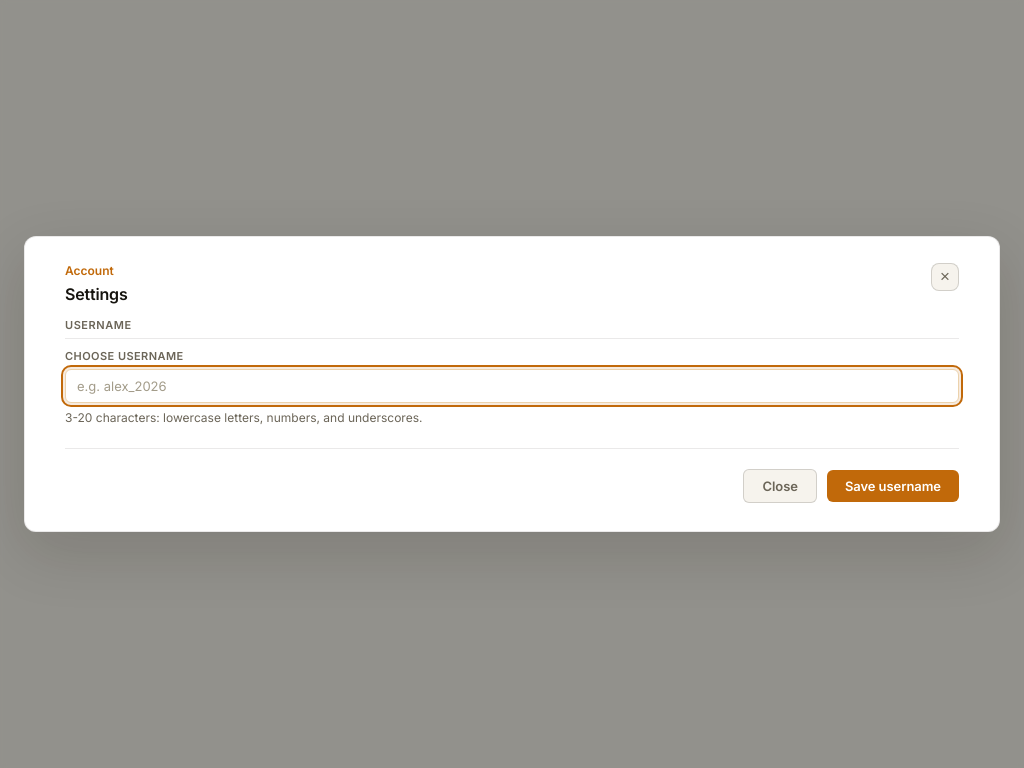
Test: SettingsModal › validates username format before saving
Step 1. Type "ab" into the field labelled "Choose username" → point(512, 386), box [65,369,959,403]
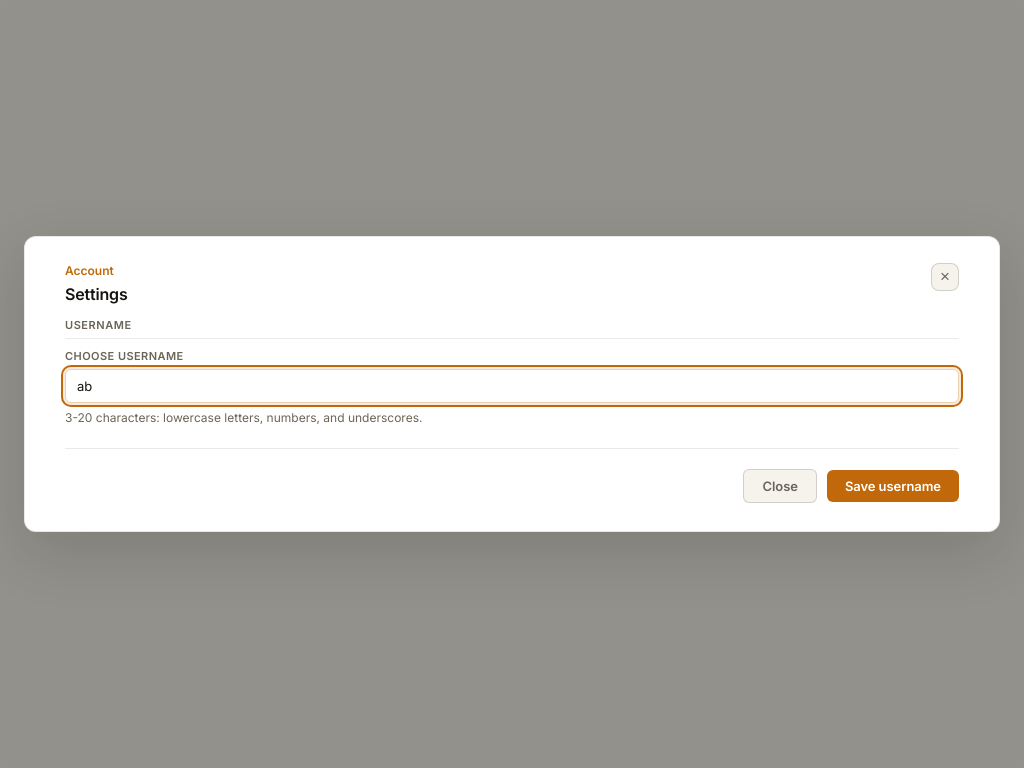
Step 2. Click the button "Save username" → point(893, 486), box [827,470,959,502]
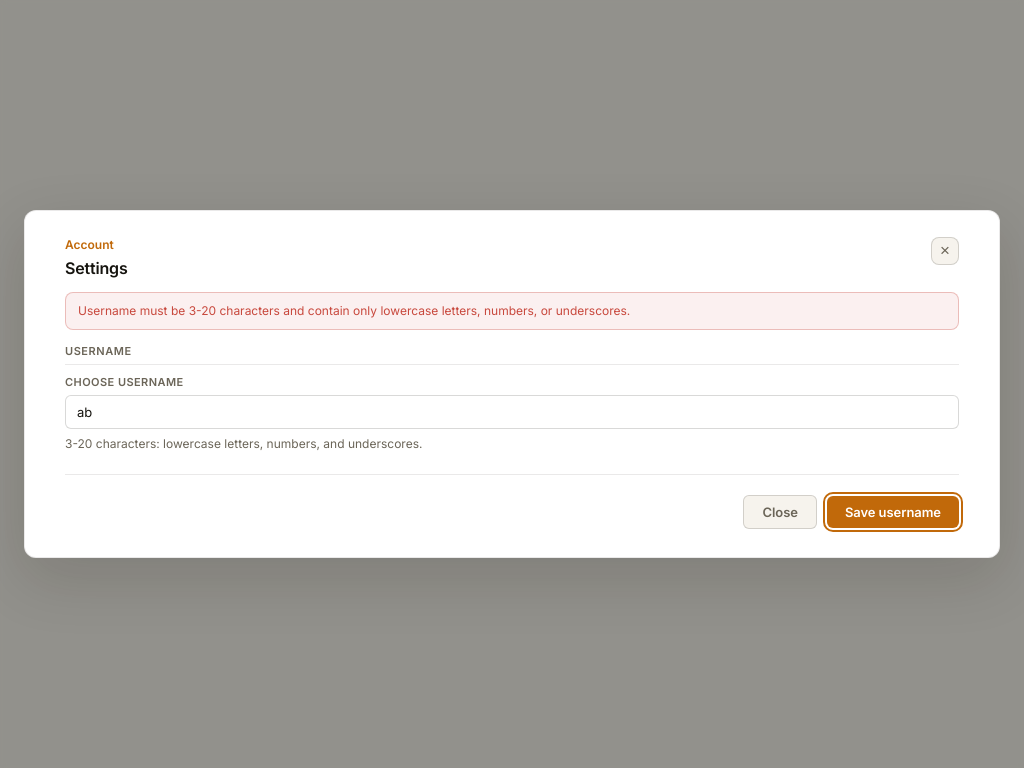
Now the message shows "Username must be 3-20 characters", box [78,303,630,318]
